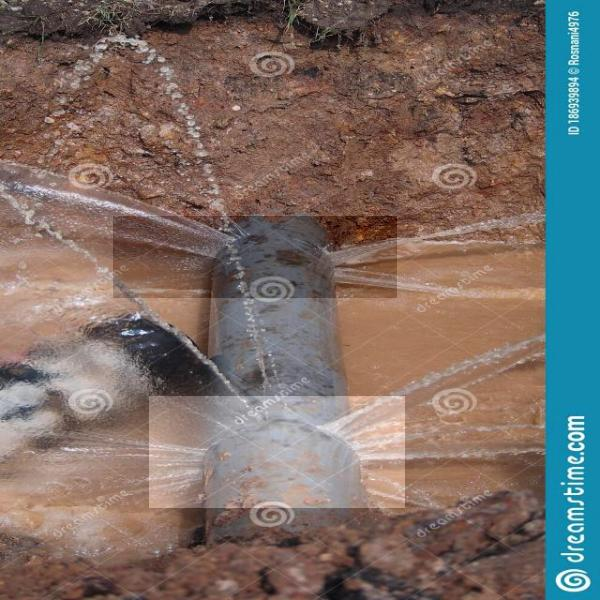leak: (149, 396, 405, 508), (113, 216, 397, 298)
